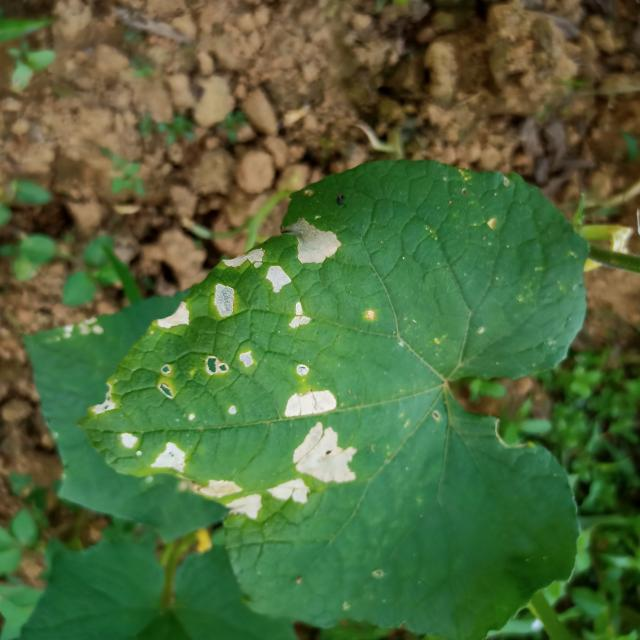disease_cucumber: (285, 387, 351, 483), (221, 243, 291, 296), (122, 431, 191, 474), (288, 216, 340, 268), (199, 479, 262, 520), (202, 347, 258, 379), (157, 298, 195, 332), (210, 282, 239, 322), (268, 478, 311, 503), (286, 298, 308, 333)
